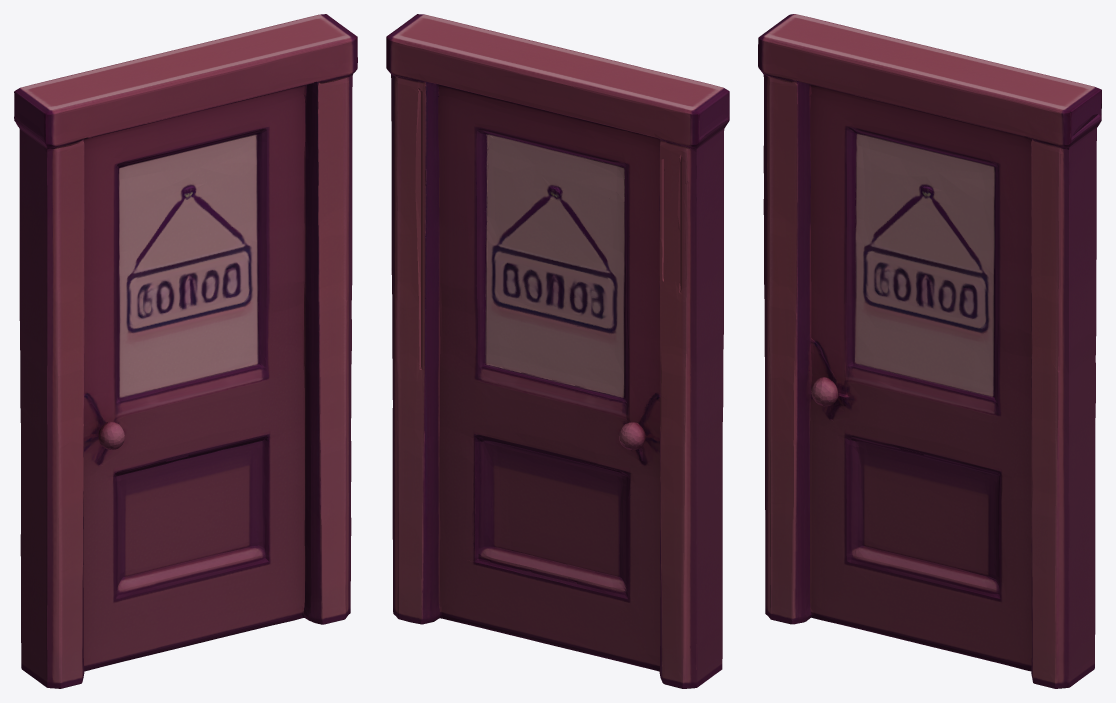
The picture shows the model from 3 angles, left to right: view 1: azimuth 30°, elevation 25°; view 2: azimuth 150°, elevation 25°; view 3: azimuth 330°, elevation 25°; orthographic projection.
Visible parts, largest first — view 1: world; view 2: world; view 3: world.
Part boxes in pixels (<box>): world: <box>14,14,357,688</box>; world: <box>386,14,729,688</box>; world: <box>758,14,1101,688</box>.
Size of the model in its own units: 56.53 by 100 by 13.64.
Materials: 1 (1 with a texture image).
